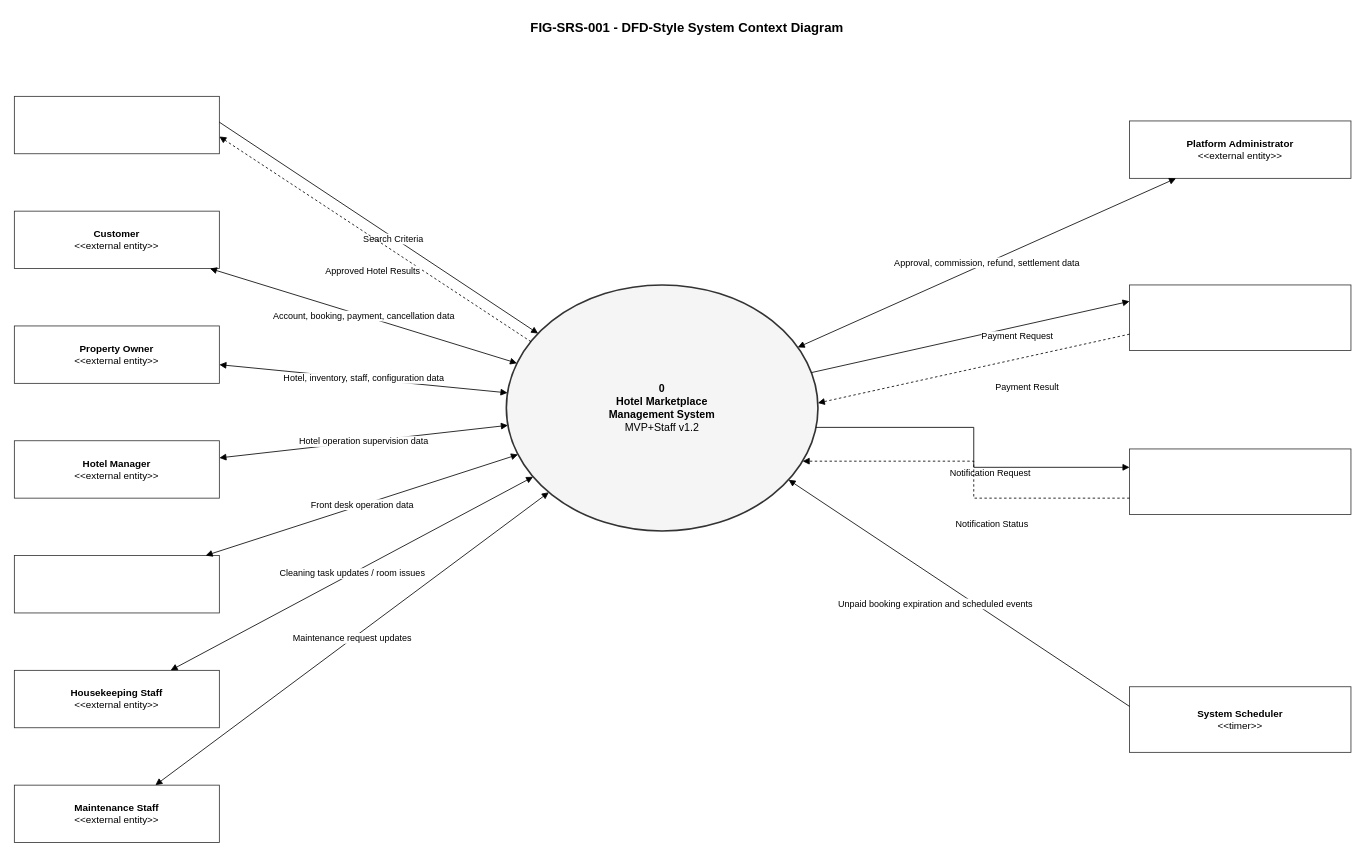
This 1365x857 diagram has some shape labels left out. The shapes that lost their labels are listed below. From the top down, each one's centre as x and y in pixels, then its label:
[116,125]: Guest <<external entity>>
[1240,317]: payOS Payment Gateway <<external system>>
[1240,481]: Notification Service <<external system / mock>>
[116,584]: Receptionist <<external entity>>
